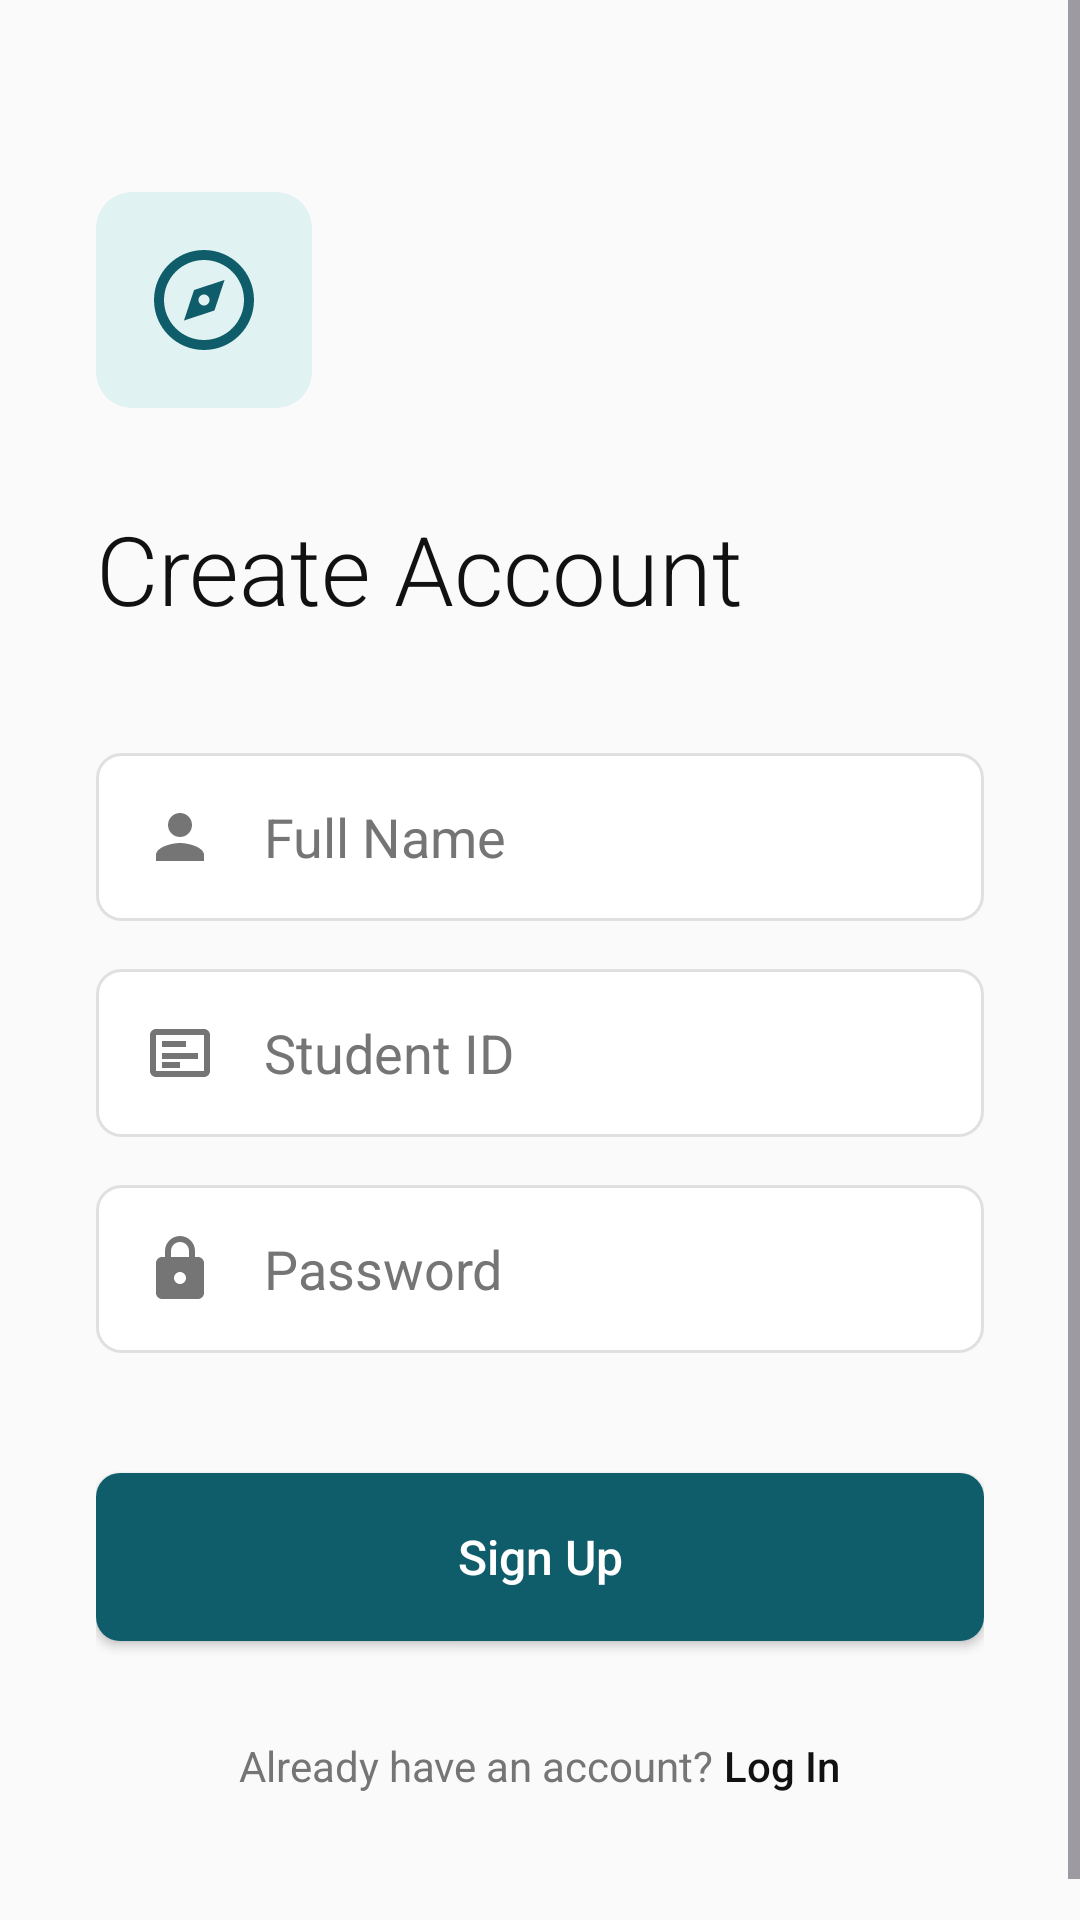

Icons on this 1080 x 1920 Android screen, each with the point to tap as (x=x, y=y):
modern compass: (x=204, y=300)
